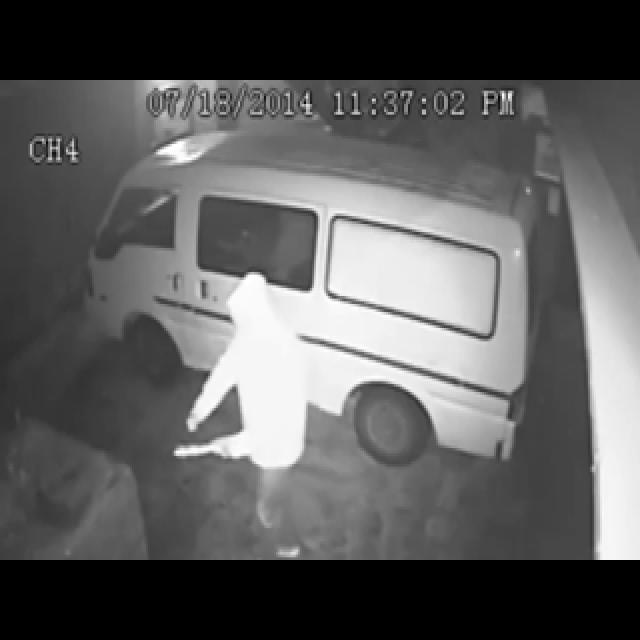arson: (0, 151, 465, 602)
